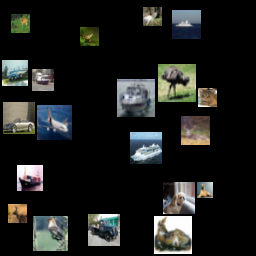airplane: (37, 105, 72, 140)
automobile: (3, 102, 35, 134)
bird: (158, 64, 196, 102), (33, 216, 68, 251)
cat: (198, 88, 217, 107)
deer: (154, 216, 192, 254), (181, 116, 210, 145), (11, 14, 30, 33), (143, 7, 162, 26)
dog: (163, 182, 195, 214), (8, 204, 27, 223), (197, 182, 213, 198)
frog: (80, 27, 99, 46)
ship: (117, 79, 155, 117), (130, 132, 162, 164), (172, 10, 201, 39), (17, 165, 43, 191), (2, 60, 28, 86)
